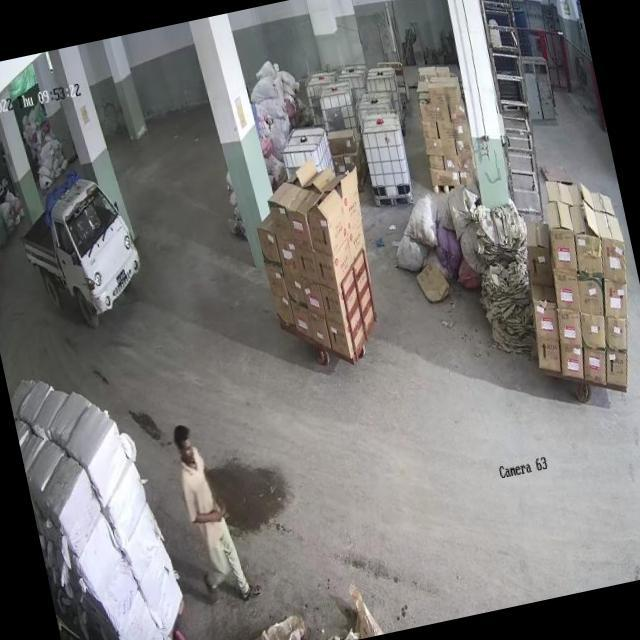person: (167, 416, 260, 610)
